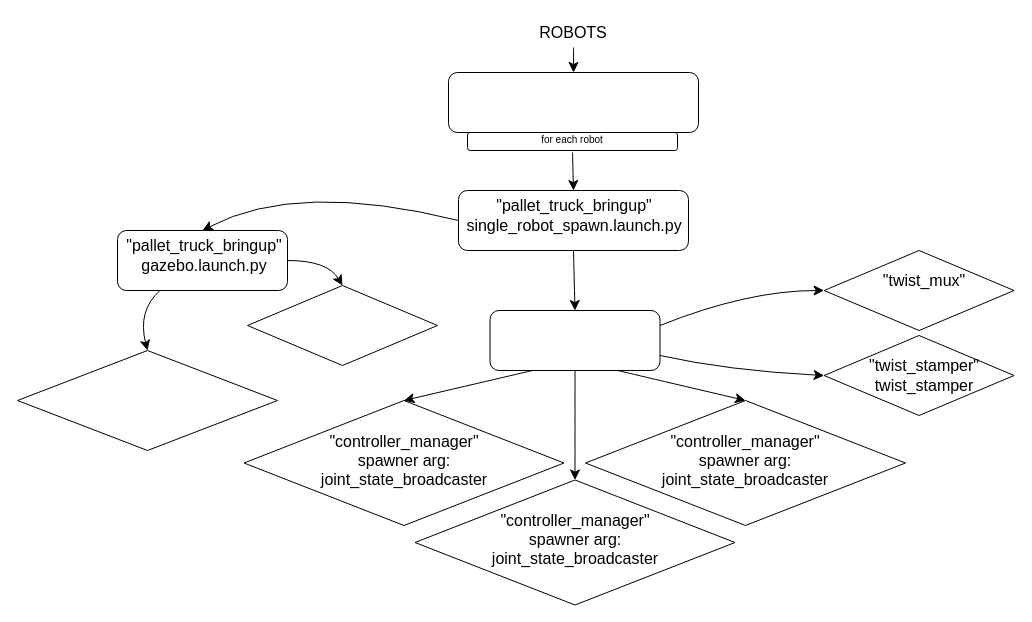
The diagram is 1032 pixels wide and 622 high, and some of its shapes have lost their labels. The centre of each missing label's shape, as x and y in pixels:
"pallet_truck_bringup" multiple_robot_spawn.launch.py: the point at 573,102
"pallet_truck_control" control.launch.py: the point at 574,340
"robot_state_publisher" robot_state_publisher: the point at 147,400
"ros_gz_sim" create: the point at 342,325
